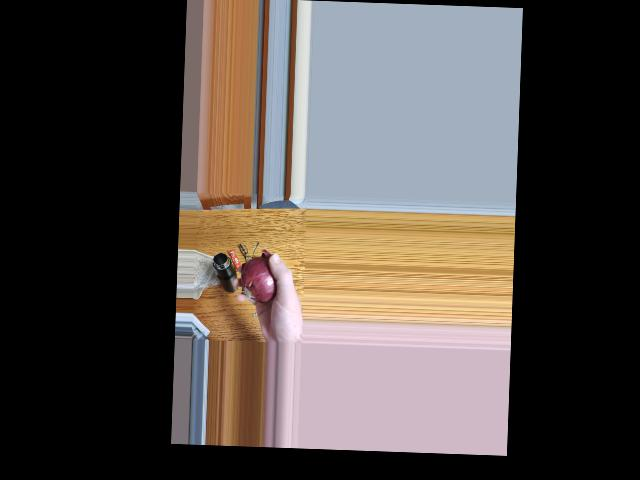onion: (244, 257, 279, 299)
